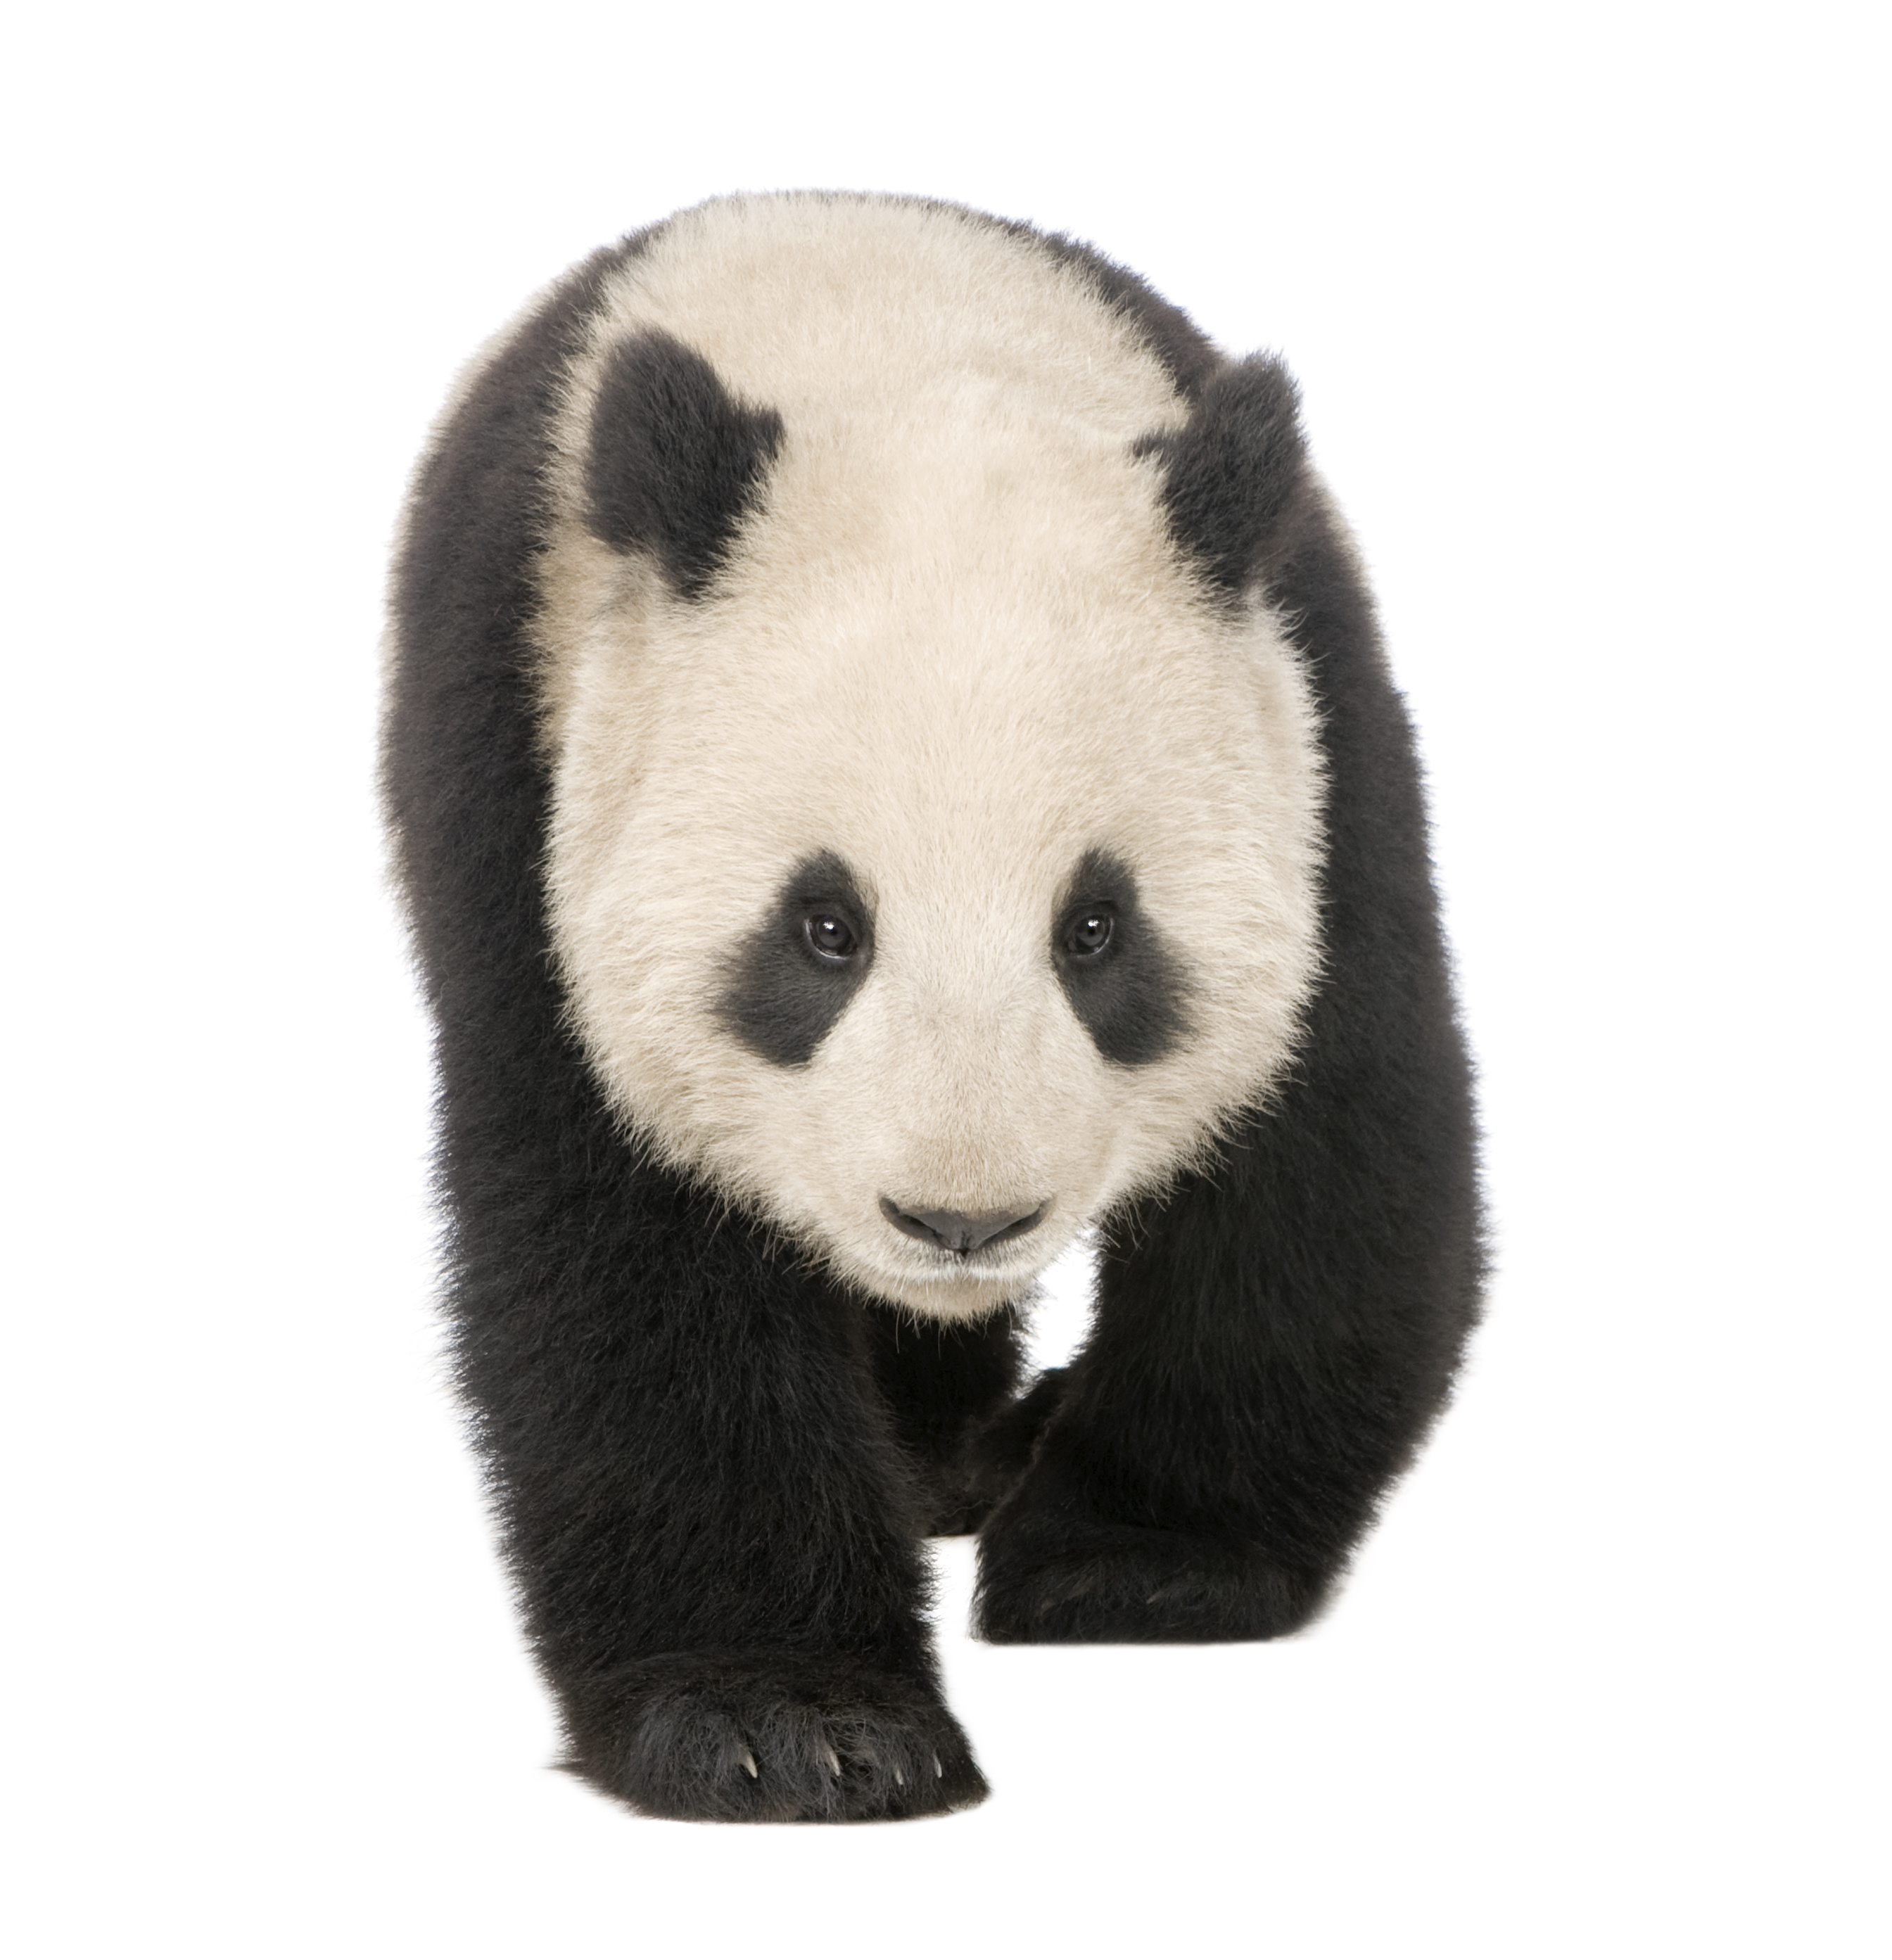panda: (245, 163, 1584, 1862)
